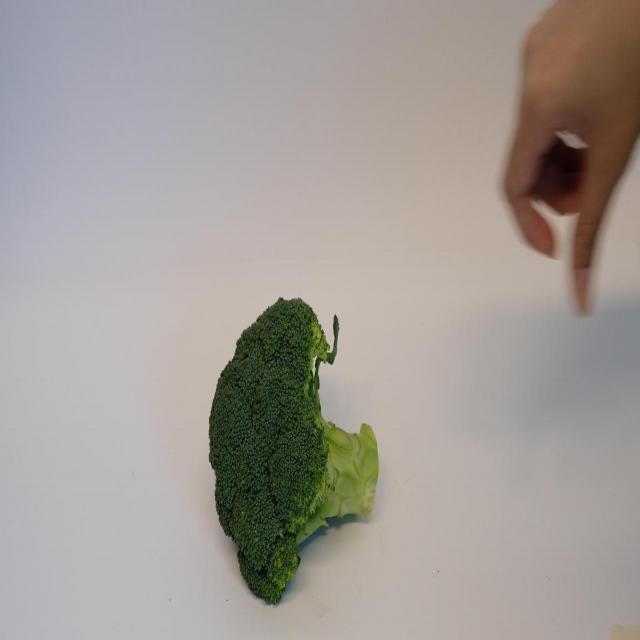broccoli: (206, 278, 390, 599)
